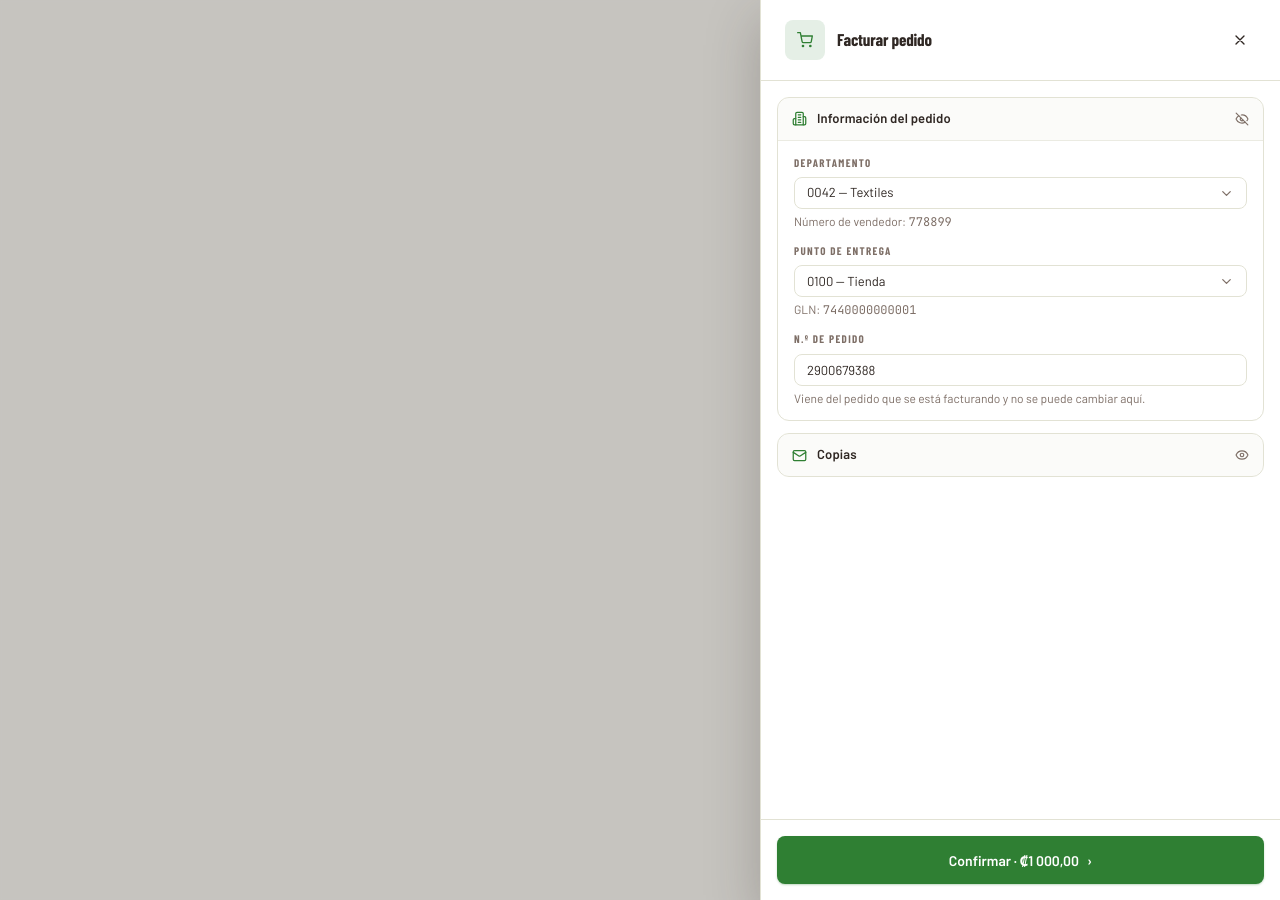
Test case: checkout error toast › clears the previous error on a new attempt without requiring dismissal
Click the button "Confirmar · ₡1 000,00 ›".
click(1020, 860)  # box [777, 836, 1264, 884]
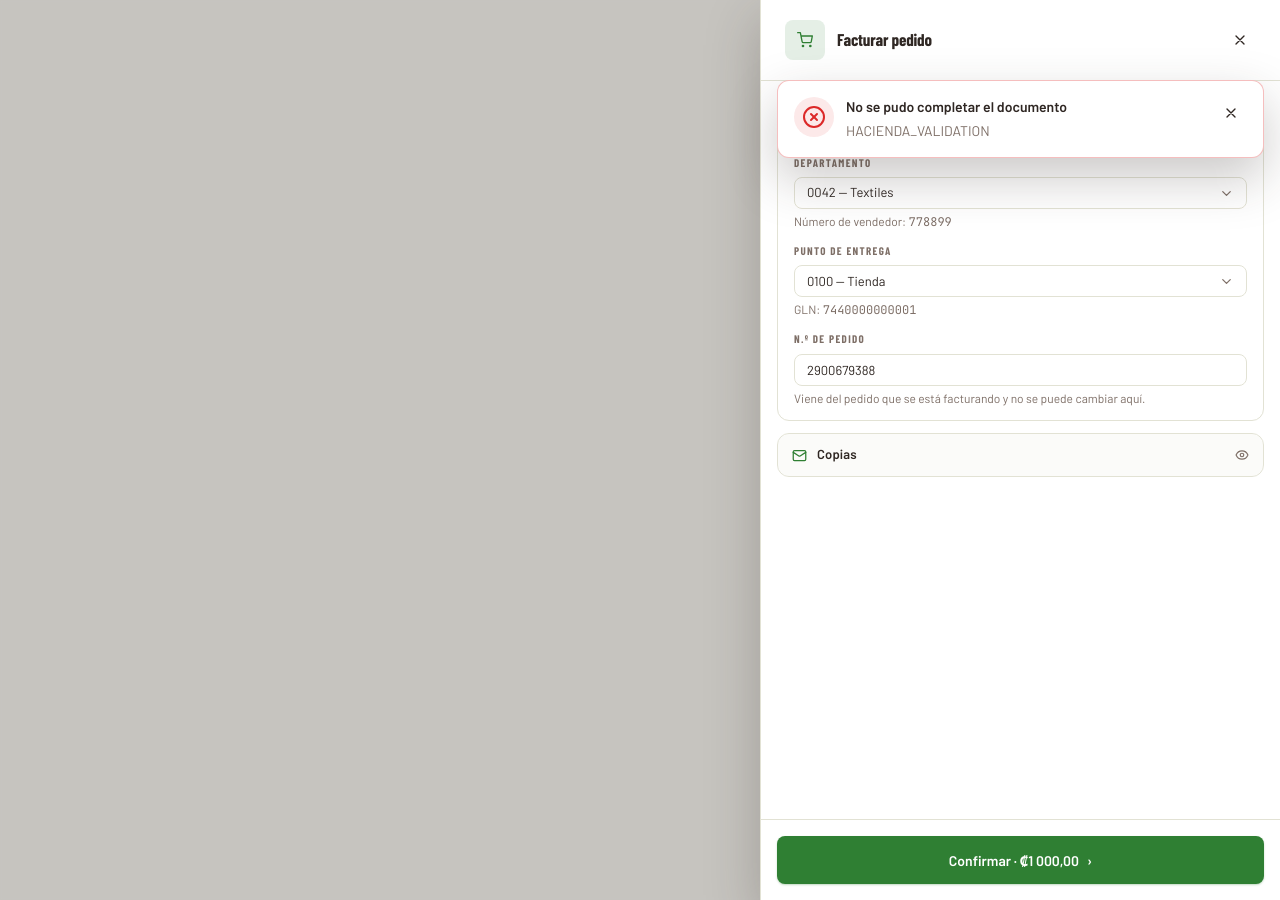
Expected: the message "No se pudo completar el documento HACIENDA_VALIDATION" is shown, [777, 80, 1264, 158]
Click the button "Confirmar · ₡1 000,00 ›".
click(1020, 860)  # box [777, 836, 1264, 884]
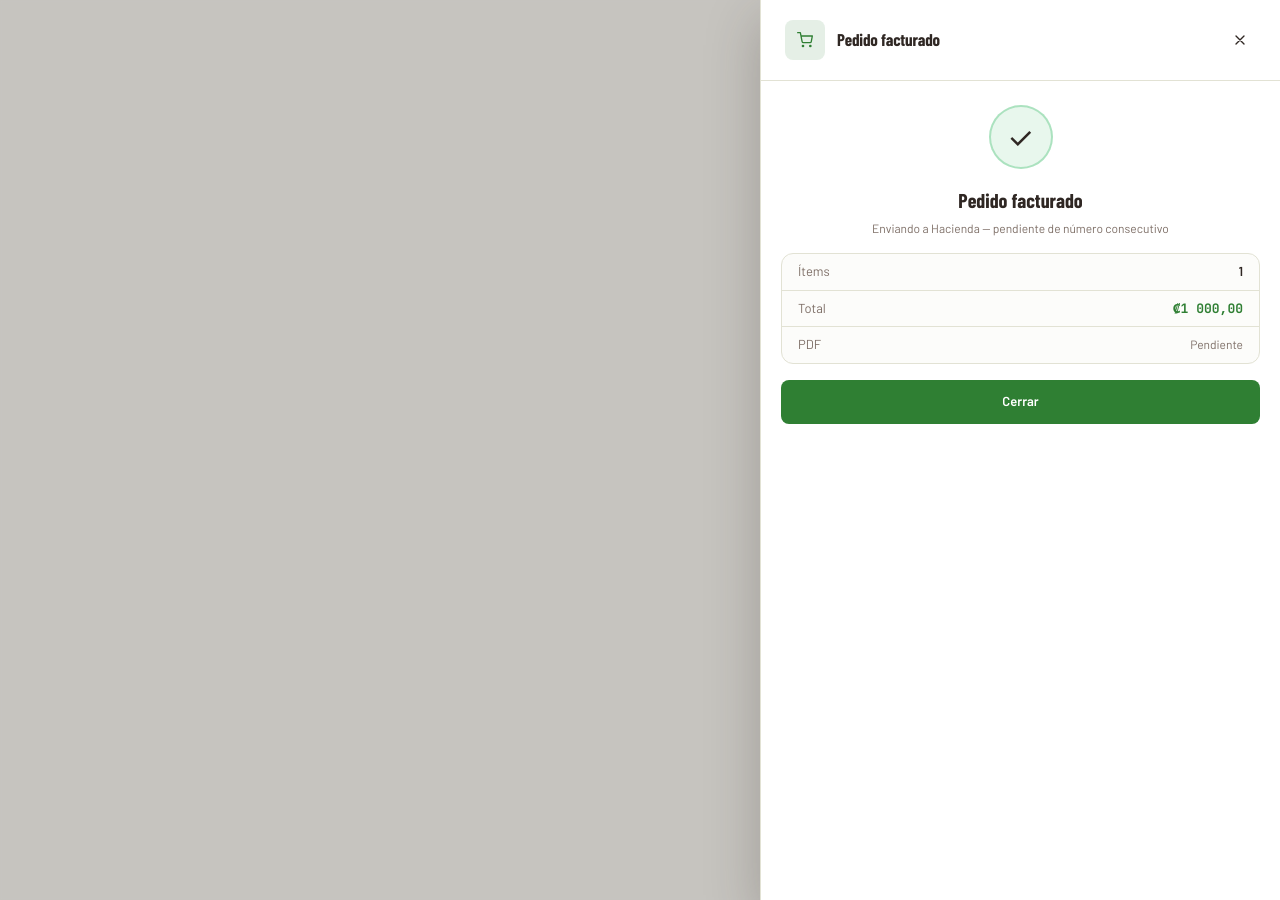
Expected: the message "No se pudo completar el documento HACIENDA_VALIDATION" is gone
